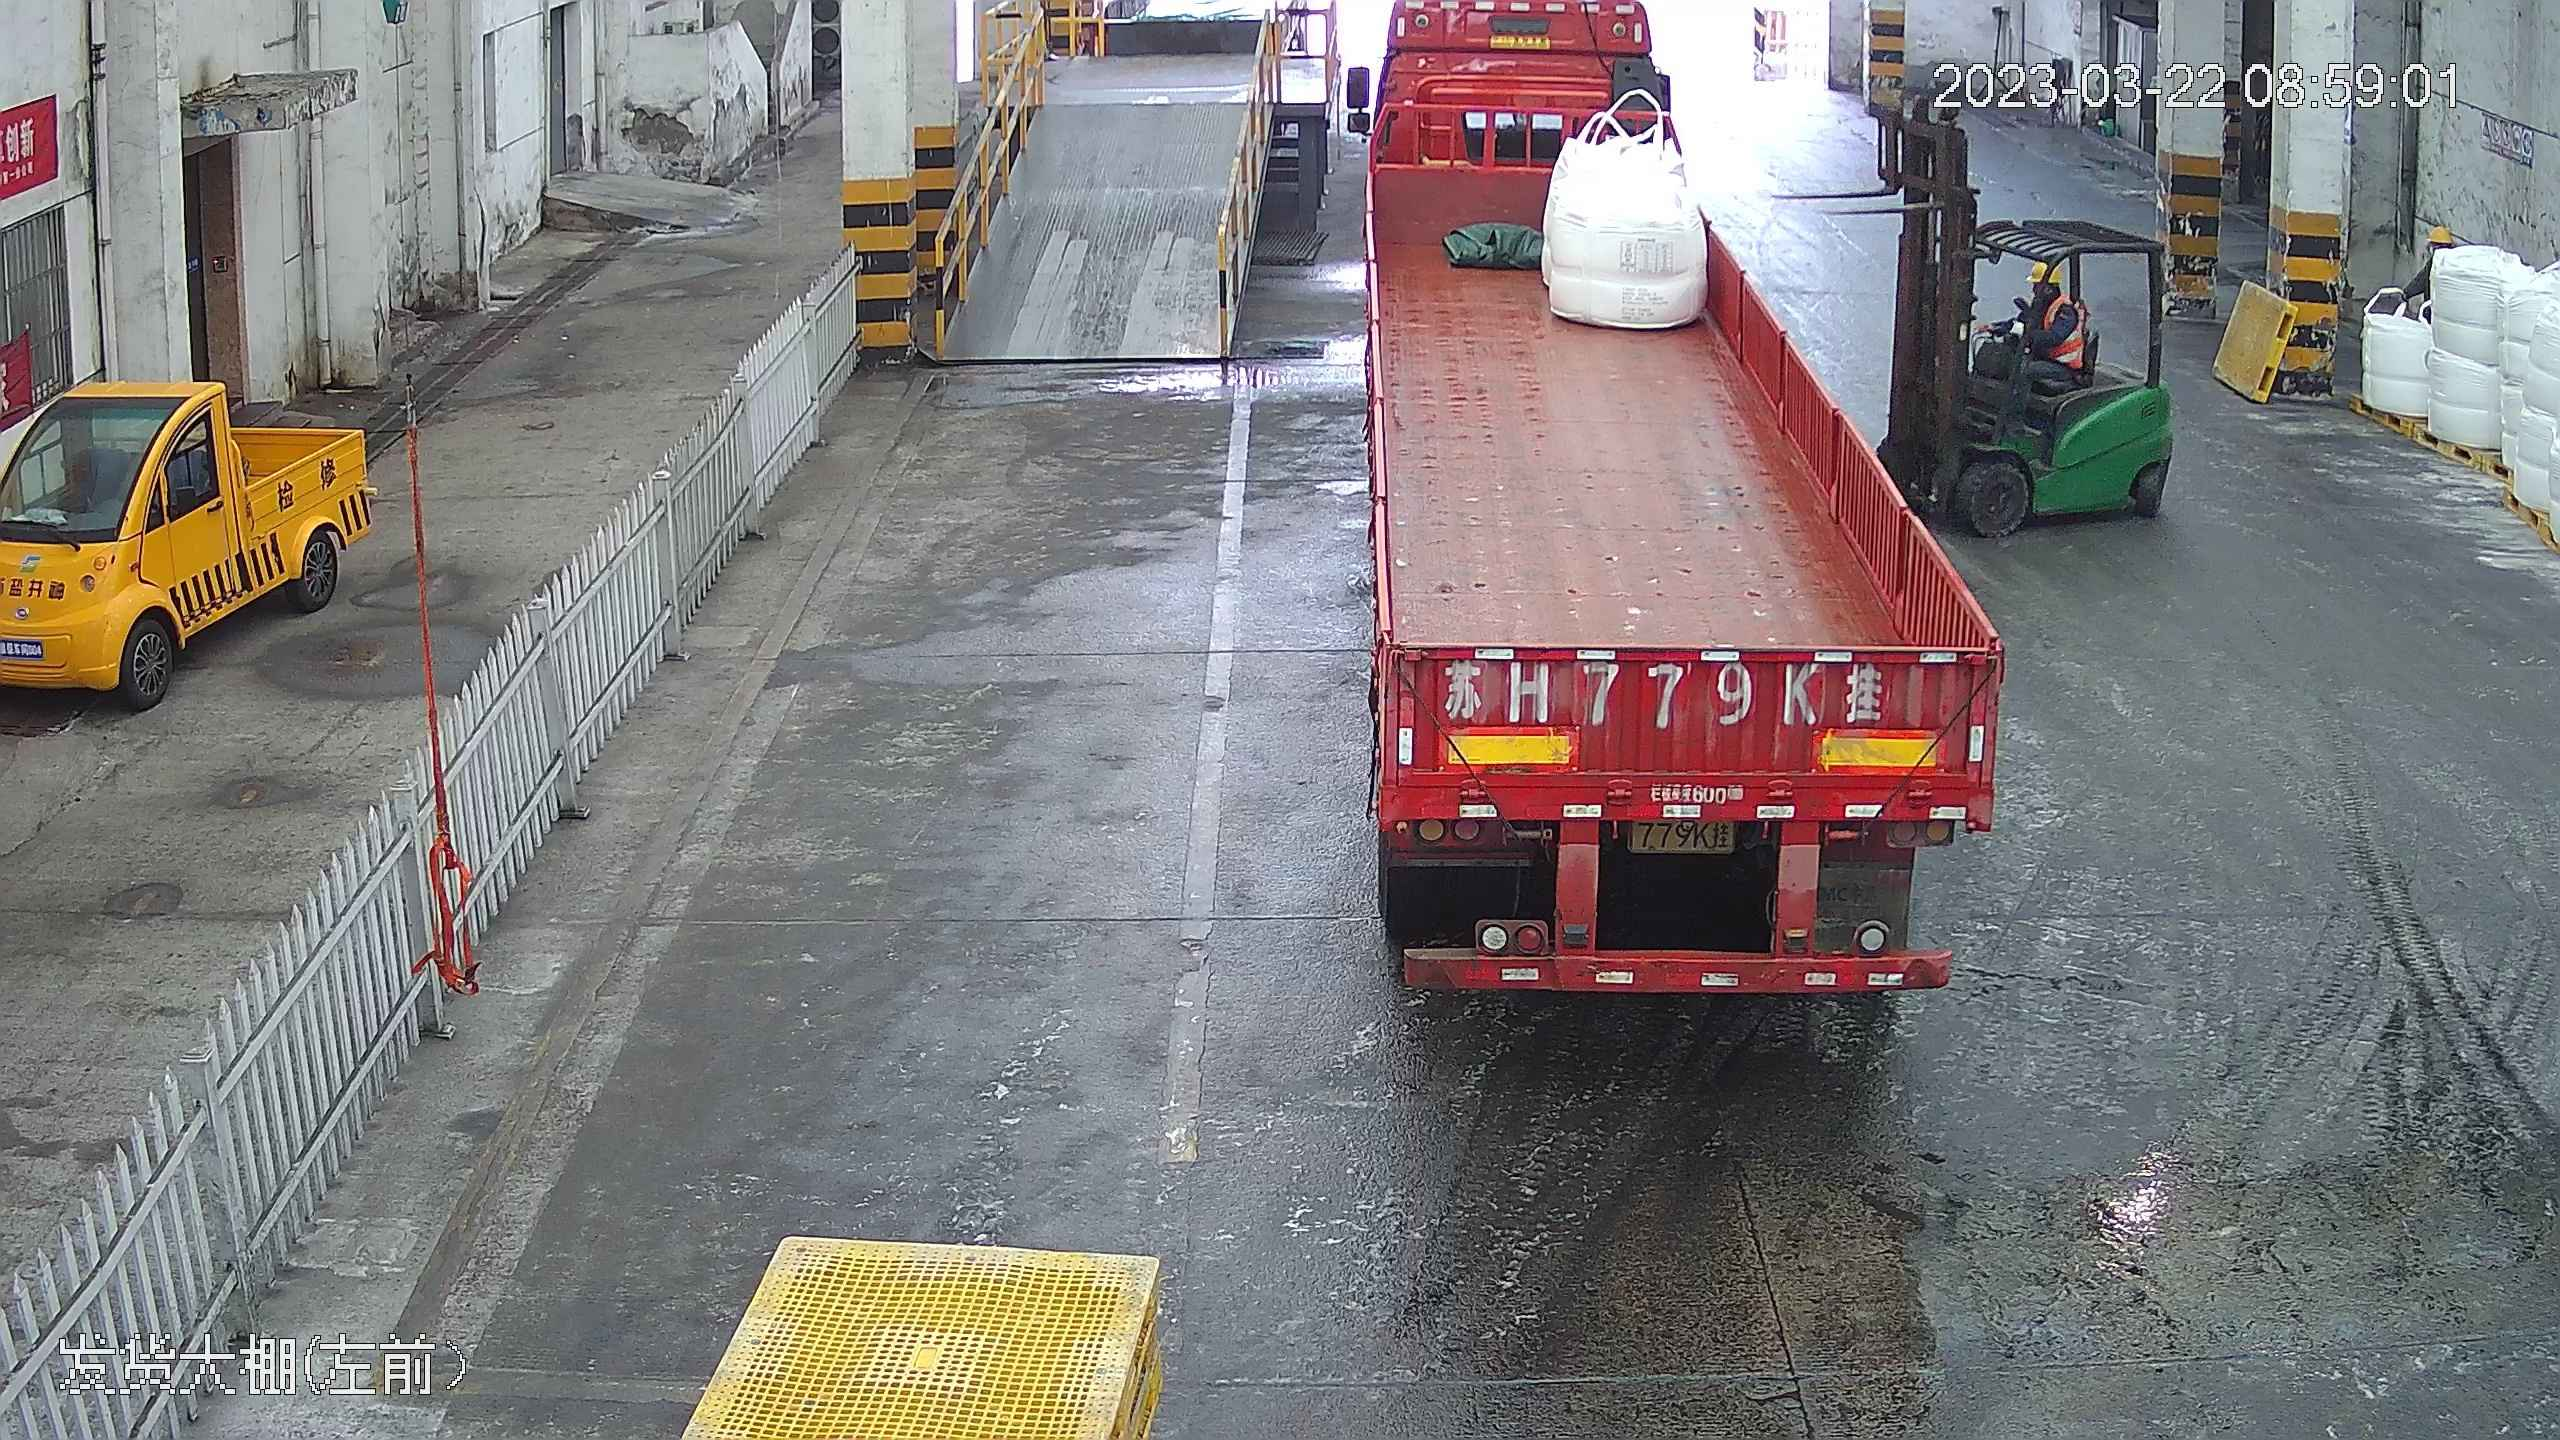head: (2025, 260, 2076, 322)
helmet: (2028, 260, 2060, 286), (2427, 225, 2451, 245)
people: (1991, 262, 2080, 394)
truck: (1339, 1, 2017, 996)
